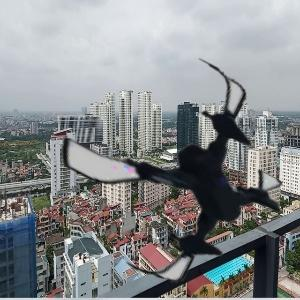drone: (60, 54, 294, 288)
